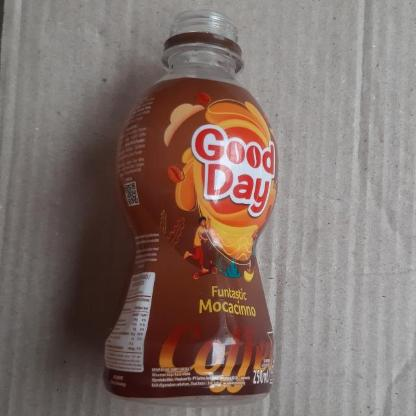Plastic Bottle: (105, 10, 280, 410)
